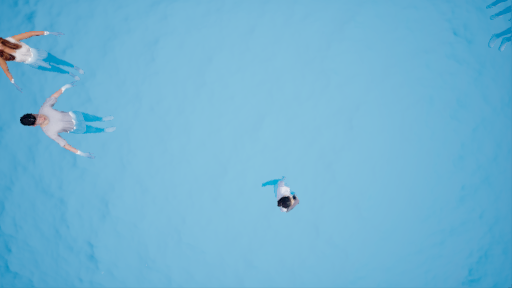person: (20, 93, 124, 155), (1, 22, 83, 89), (247, 164, 312, 221)
